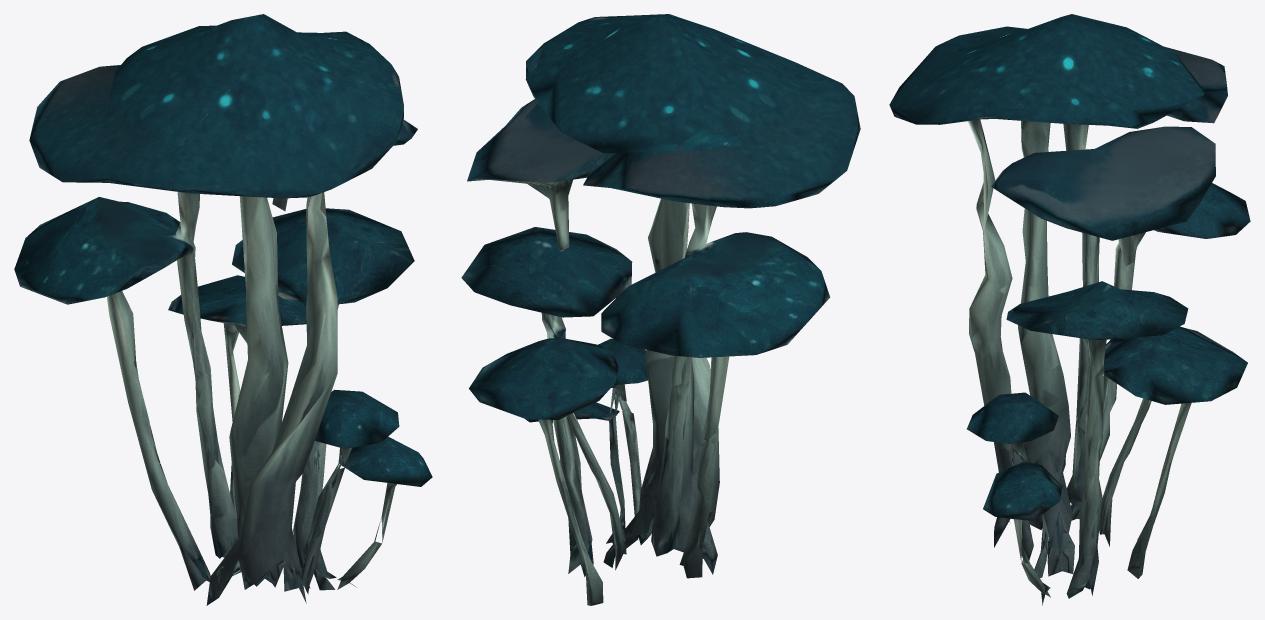
Rendered from ghost_mushrooms.glb.
3 renders of one model, left to right at view 1: azimuth 30°, elevation 25°; view 2: azimuth 150°, elevation 25°; view 3: azimuth 270°, elevation 25°, orthographic. The views are drawn at different scales.
Bounding box in the file's own units: 1.2 × 1.89 × 1.13.
Materials: 1 (1 with a texture image).
